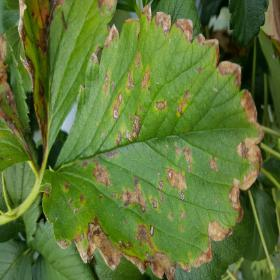Angular Leafspot: (40, 4, 266, 279), (18, 0, 118, 165), (0, 23, 38, 171)
